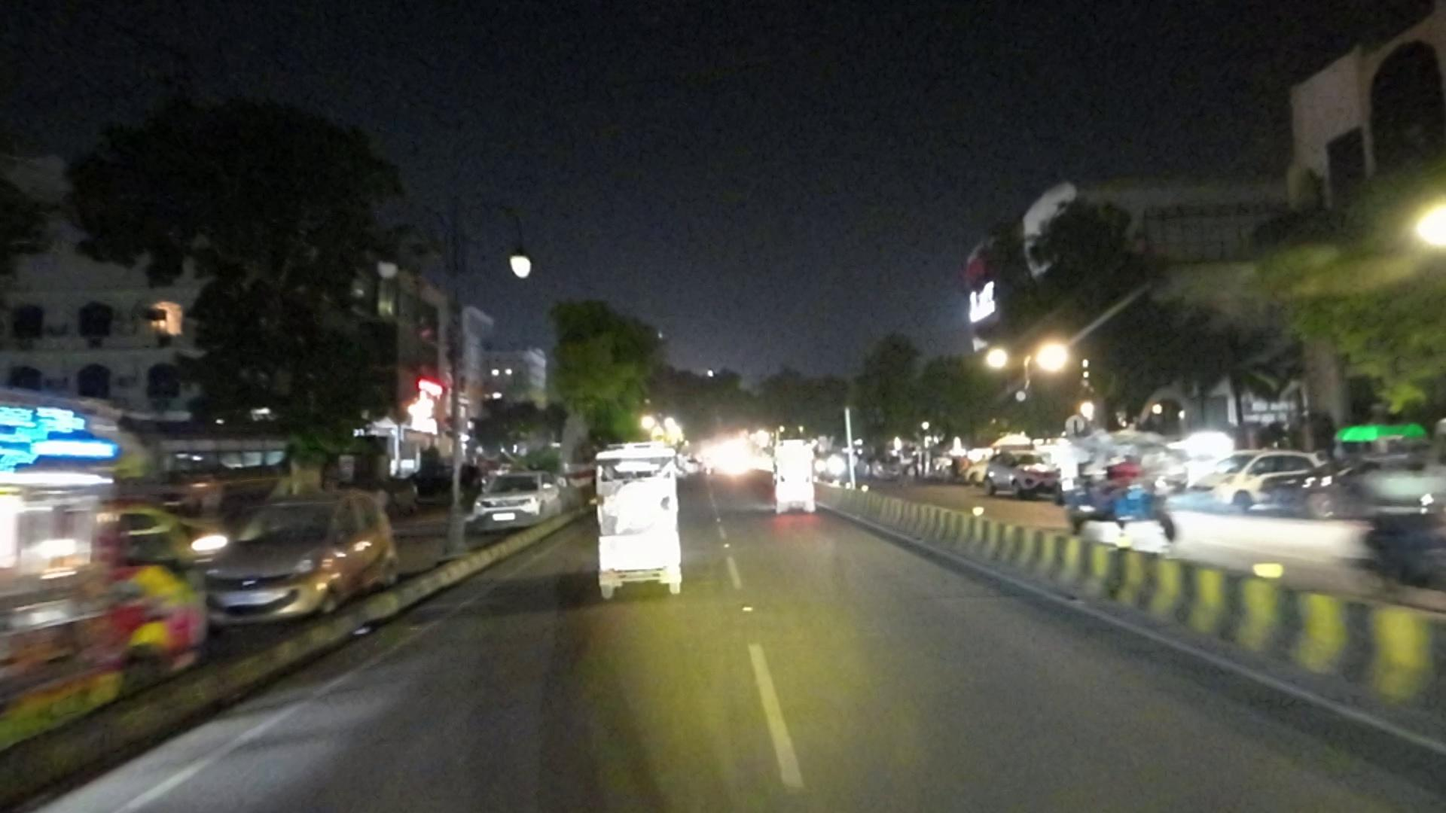streetlight: (369, 230, 412, 292)
